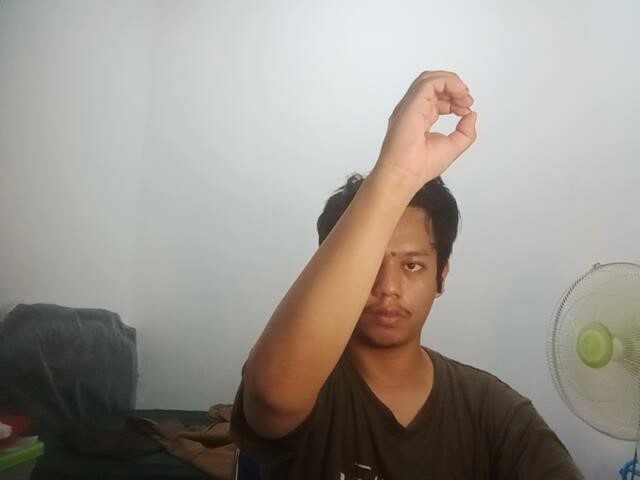O: (379, 64, 490, 188)
